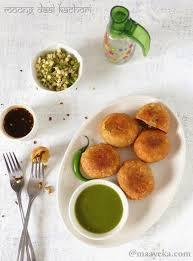Tikki: (65, 96, 179, 176)
